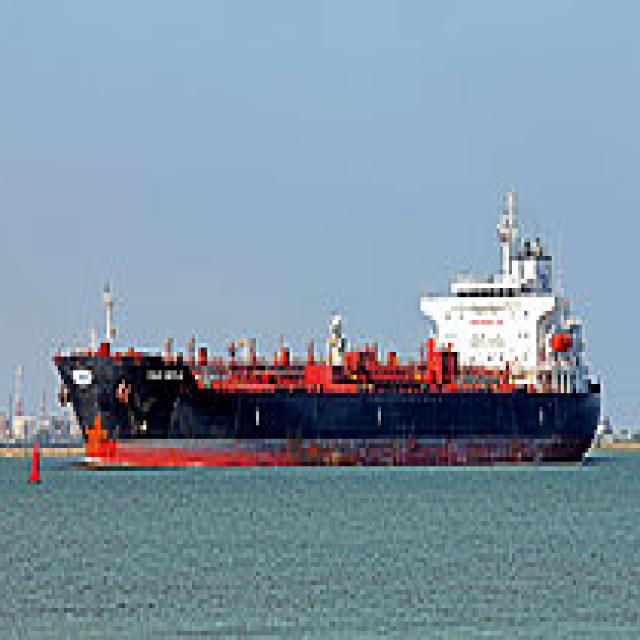Tanker: (49, 183, 606, 471)
